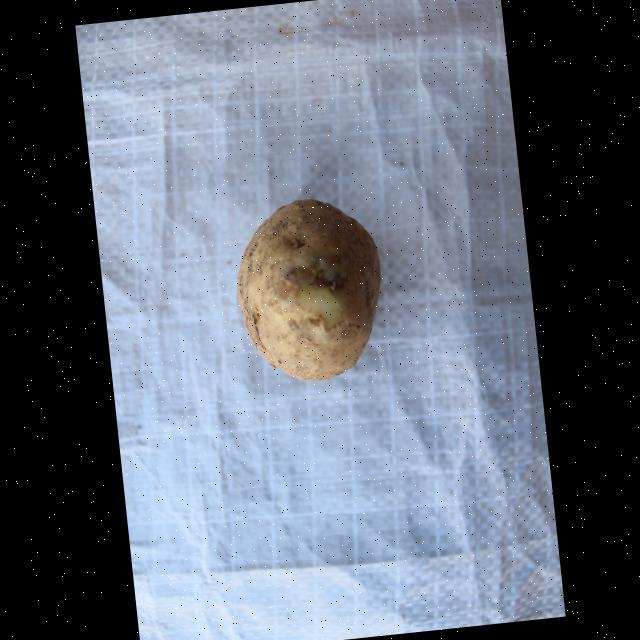Diseased-fungal potato: (226, 184, 394, 390)
